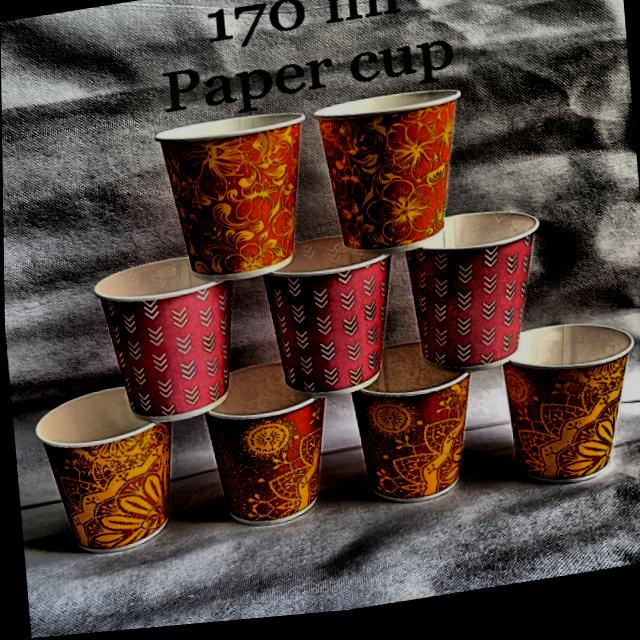Cup: (139, 103, 310, 301), (183, 352, 340, 545), (337, 329, 494, 521), (308, 85, 472, 267), (29, 375, 181, 565), (255, 224, 407, 412), (91, 249, 243, 433), (403, 211, 554, 390), (501, 328, 640, 499)
